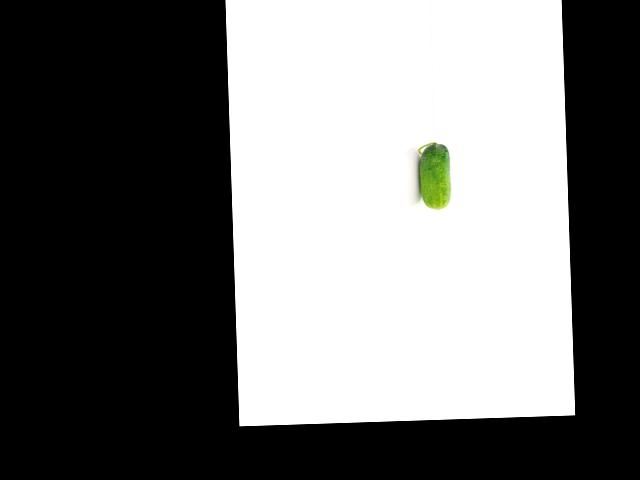cucumber: (417, 142, 451, 211)
